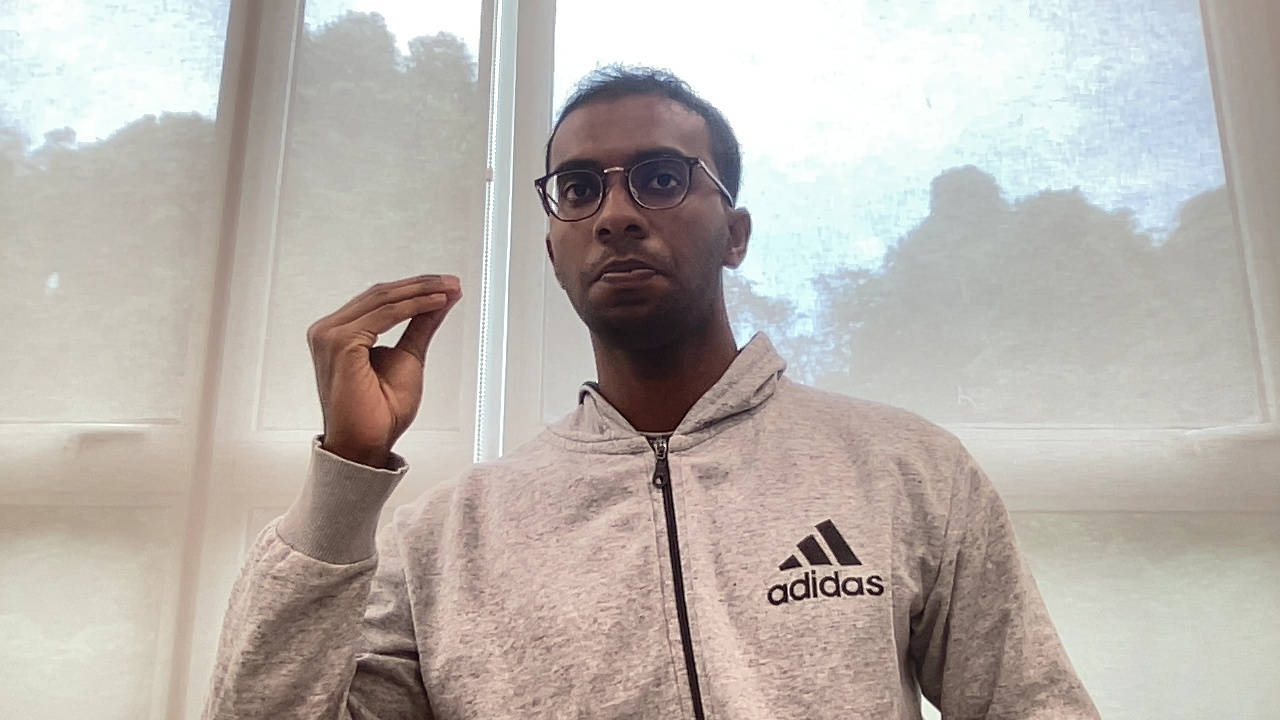eat: (295, 271, 467, 443)
